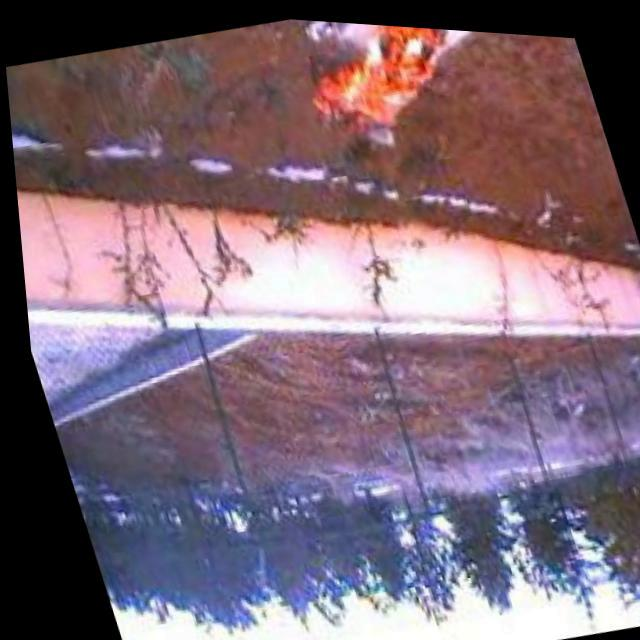fire: (284, 16, 482, 152)
